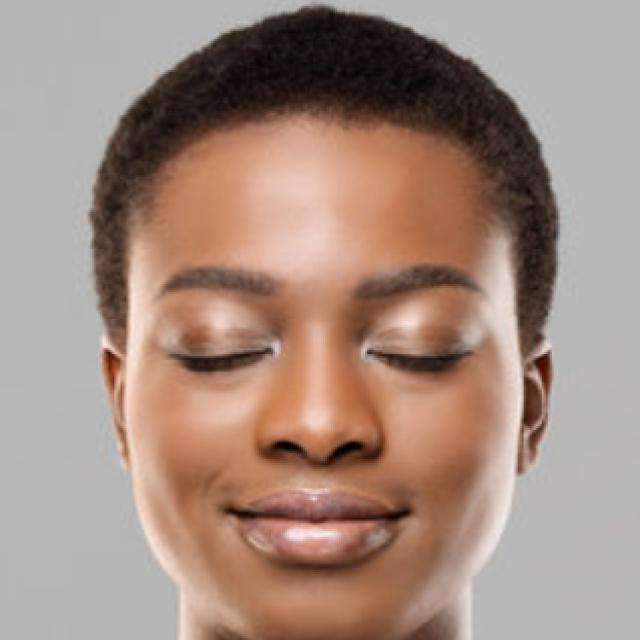close: (347, 256, 497, 396), (141, 256, 288, 396)
